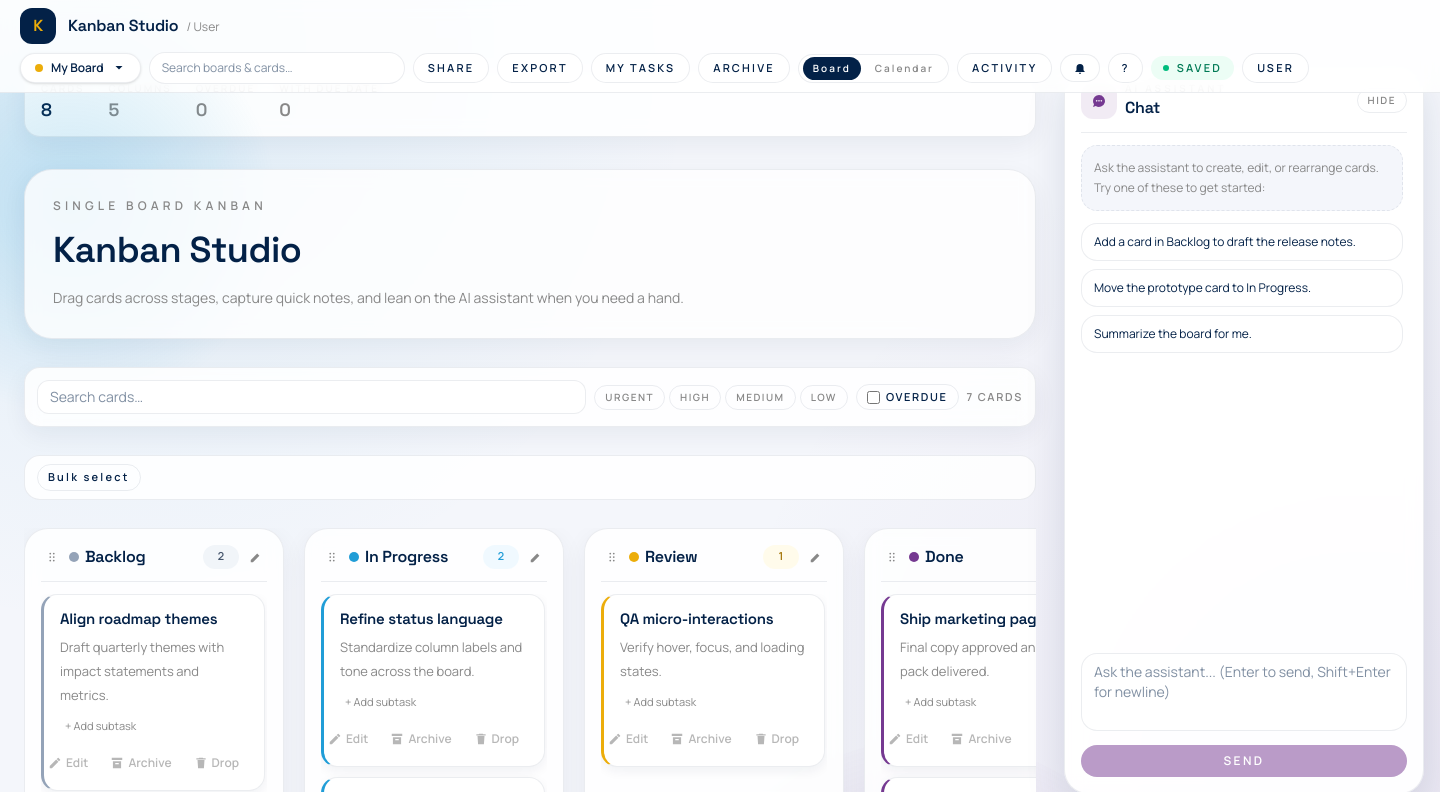
Scenario: BackendKanbanBoard › sends chat with the active board id and applies AI updates
The image size is (1440, 792).
Expected: the heading "Kanban Studio" is shown, x1=53 y1=227 x2=301 y2=273
Type "Add a card" into the text box named "Chat message" at x=1244, y=692, box x1=1081 y1=653 x2=1407 y2=731
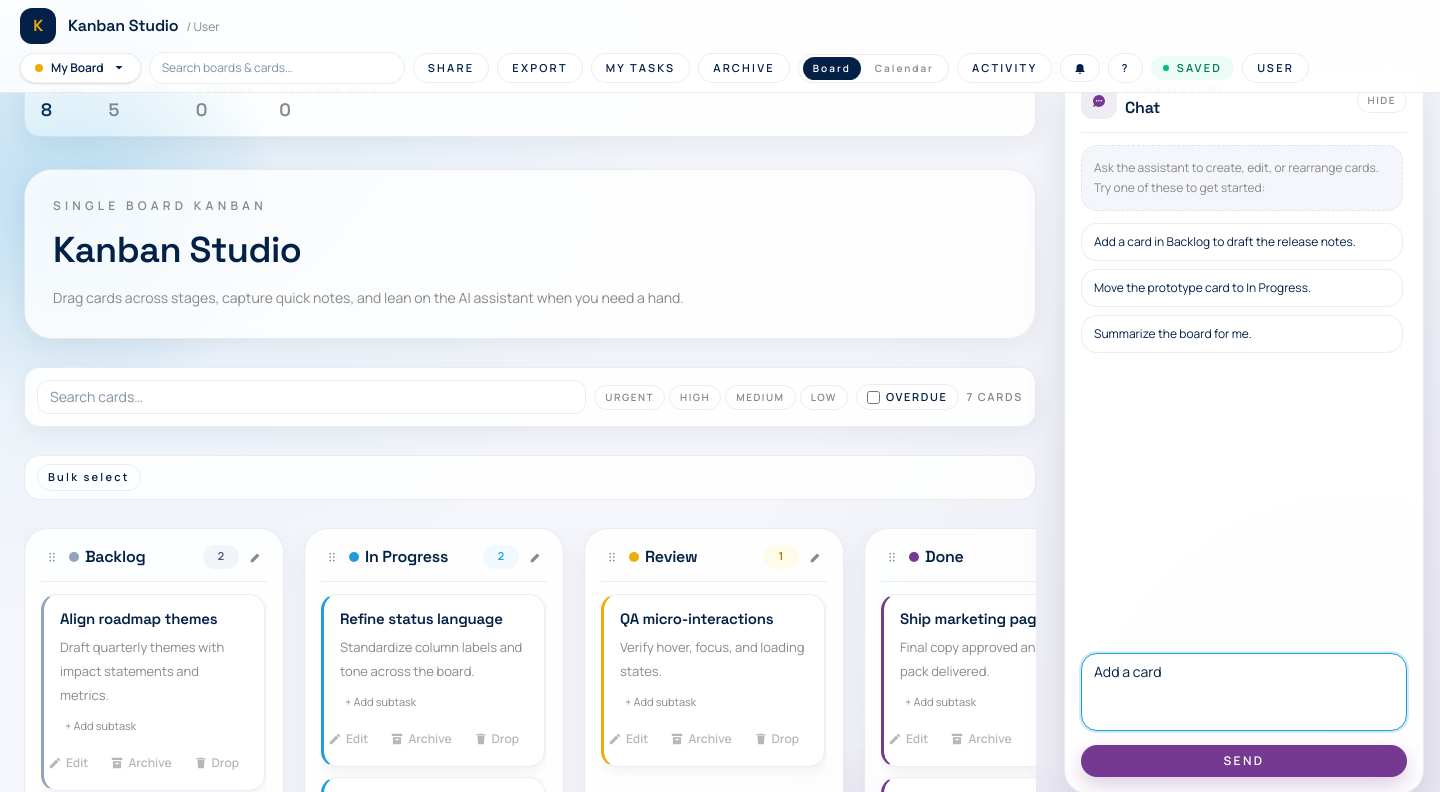
Click the button "Send" at x=1244, y=761, box x1=1081 y1=745 x2=1407 y2=777
(page scrolled)
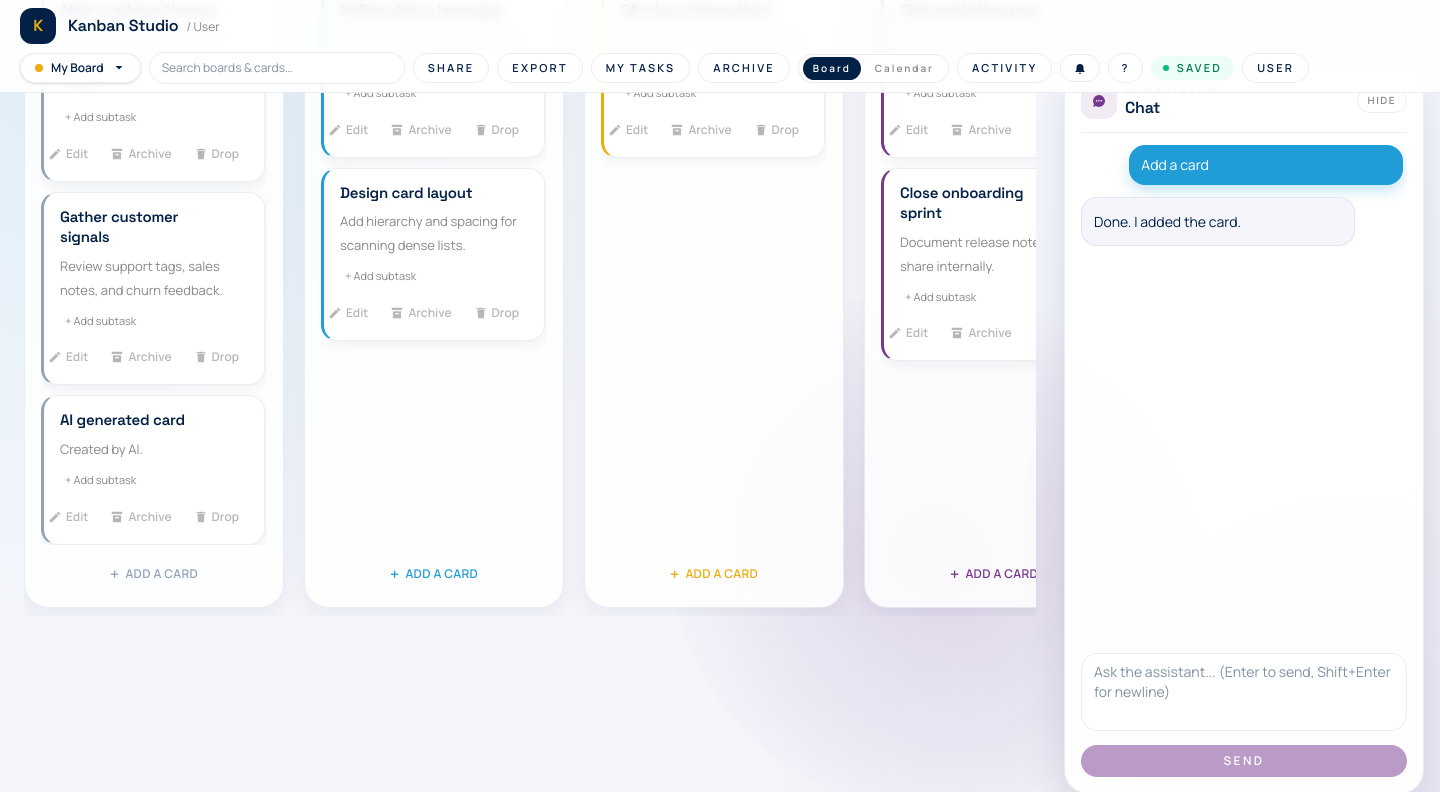
Expected: the text "Done. I added the card." is shown, x1=1094 y1=212 x2=1241 y2=230
Expected: the button "AI generated card" is shown, x1=60 y1=410 x2=185 y2=431
